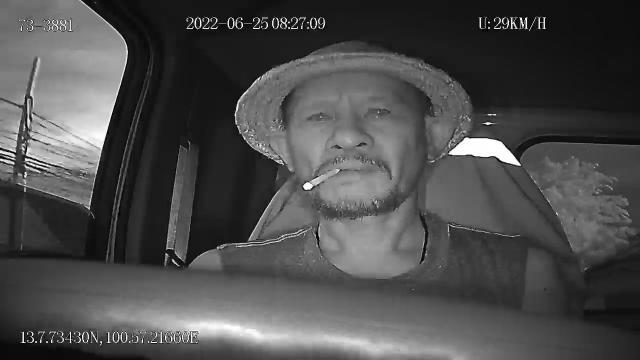SafeDriving: (300, 100, 338, 130), (359, 97, 398, 124)
Smoking: (303, 166, 342, 192)
